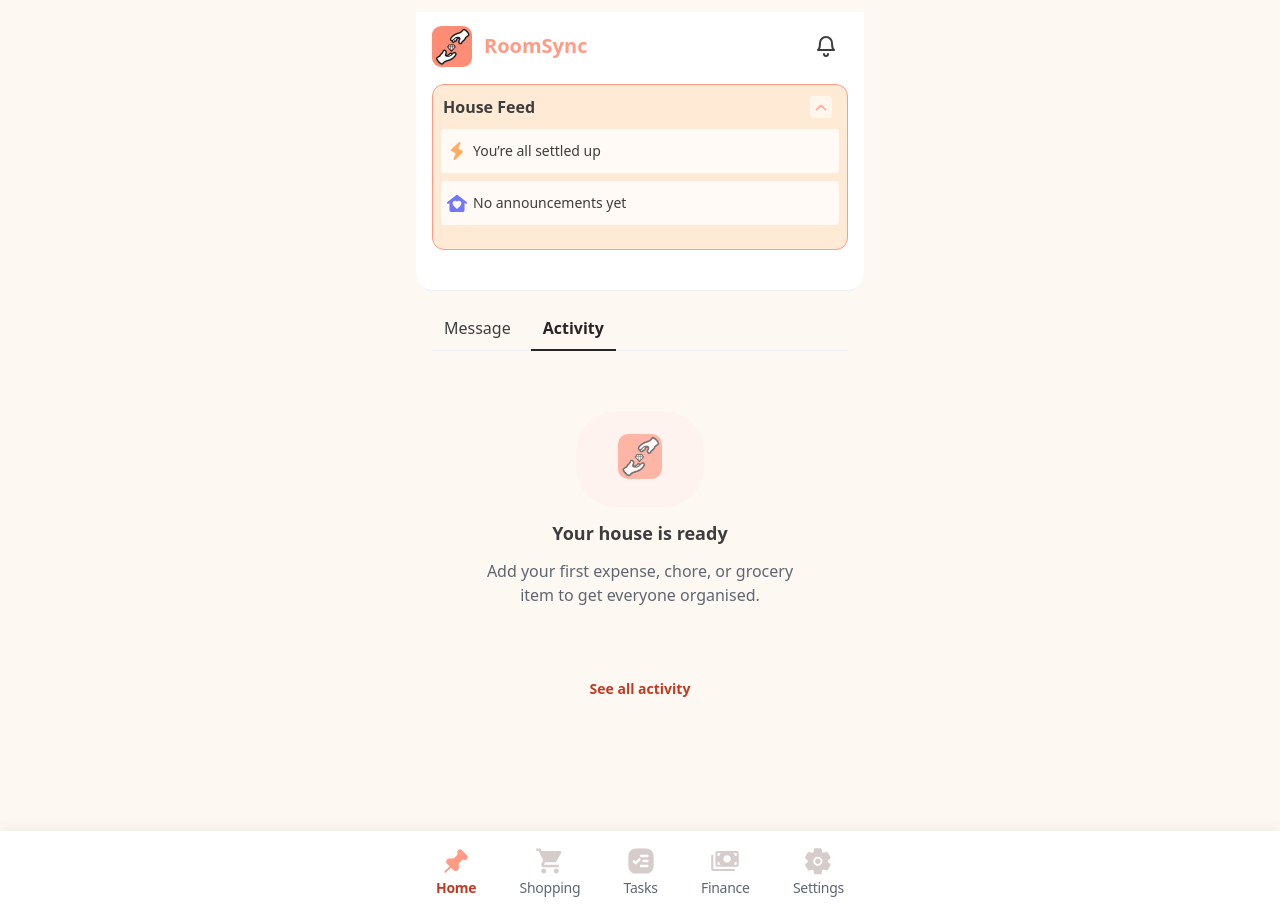
Test: routing and guards › navigates between tabs and updates the heading
Click the link "Finance" at (725, 872), box [697,844,754,900]
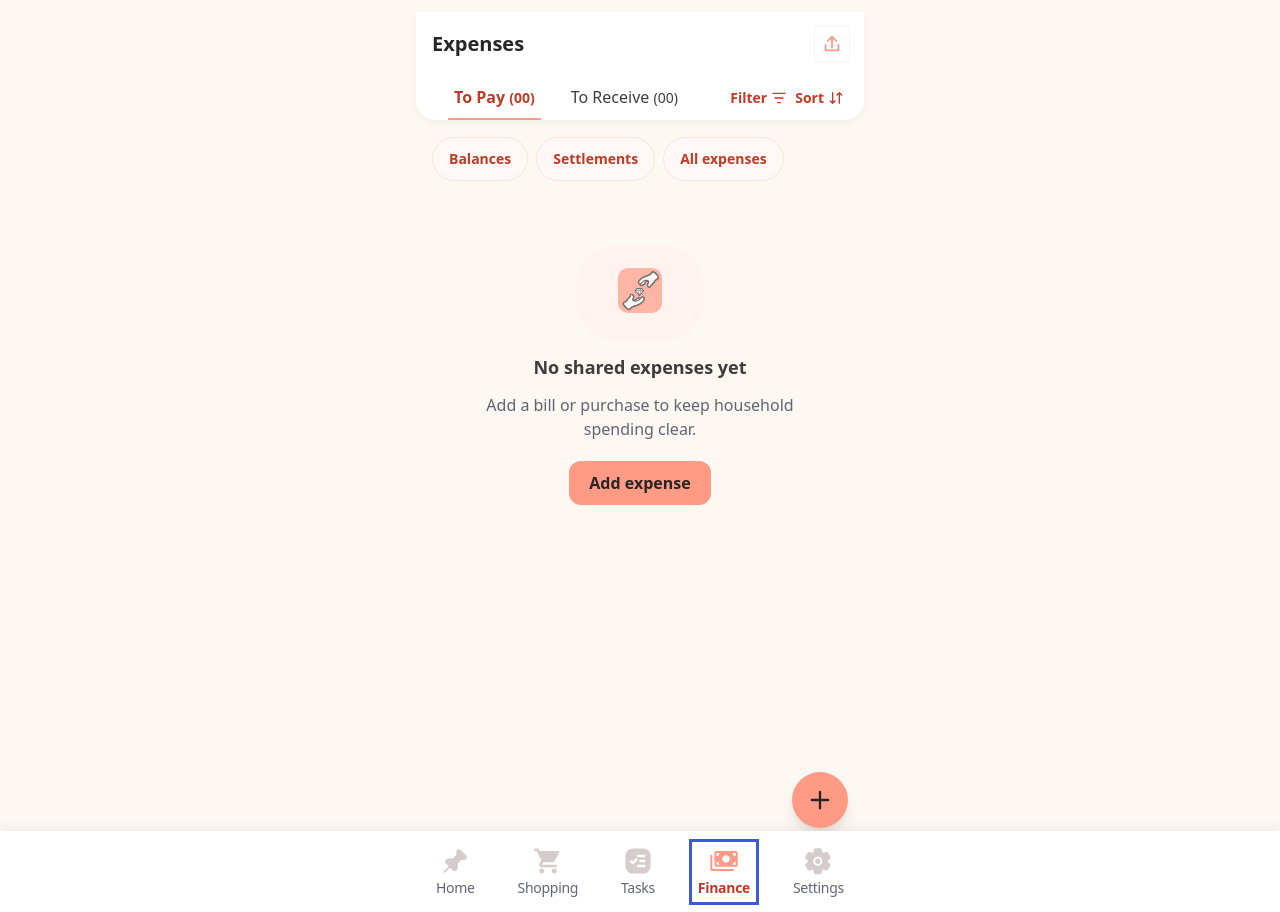
Now the heading "Expenses" is shown, box [432,30,524,57]
